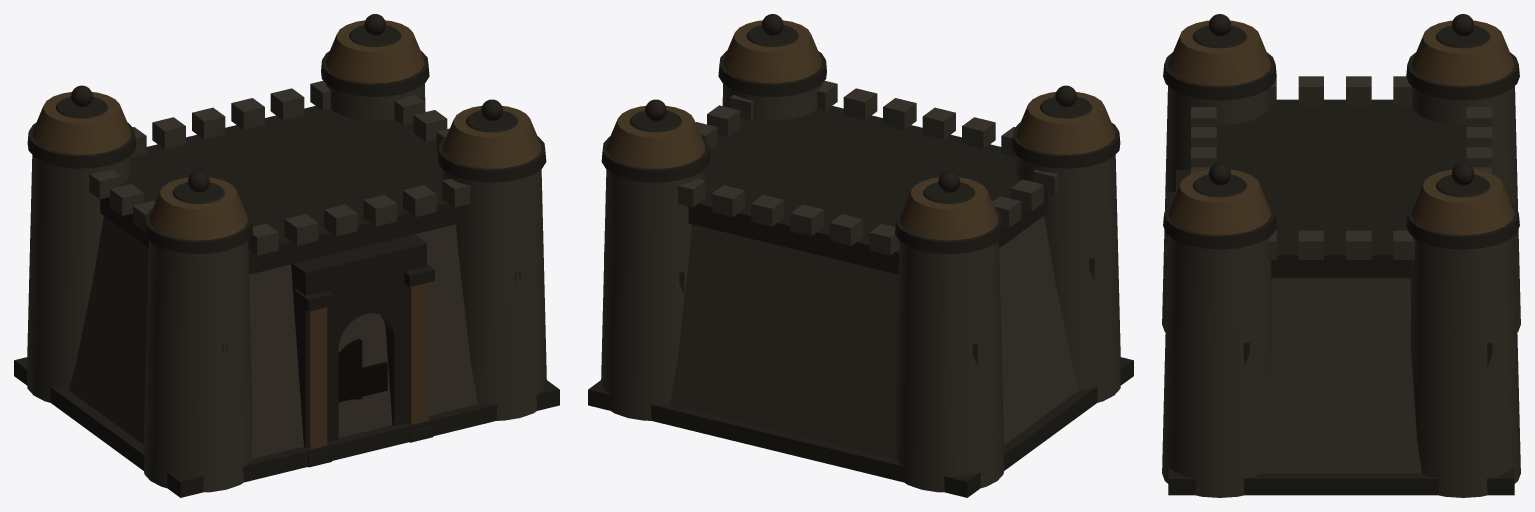
The model's file is vijayanagara-barracks.obj.
3 views of the same model, side by side, from view 1: azimuth 30°, elevation 25°; view 2: azimuth 150°, elevation 25°; view 3: azimuth 270°, elevation 25° (orthographic). The views are drawn at different scales.
Parts seen in each view (by area): view 1: keep_walls_battered, parapet_wall, watchtower_front_left_shaft, watchtower_front_right_shaft, watchtower_rear_left_shaft, gateway_facade, plinth_base, watchtower_front_right_cap_step2, watchtower_rear_left_cap_step2, watchtower_front_left_cap_step2, watchtower_rear_right_cap_step2, guardian_pilaster_right_shaft (+27 smaller); view 2: keep_walls_battered, parapet_wall, watchtower_rear_left_shaft, watchtower_rear_right_shaft, watchtower_front_left_shaft, plinth_base, watchtower_front_left_cap_step2, watchtower_rear_right_cap_step2, watchtower_rear_left_cap_step2, watchtower_front_right_cap_step2, watchtower_front_right_shaft, watchtower_rear_right_cap_step1 (+20 smaller); view 3: parapet_wall, keep_walls_battered, watchtower_rear_right_shaft, watchtower_front_right_shaft, plinth_base, watchtower_rear_left_shaft, watchtower_front_right_cap_step2, watchtower_rear_right_cap_step2, watchtower_front_left_cap_step2, watchtower_rear_left_cap_step2, watchtower_front_left_shaft, watchtower_front_right_cap_step1 (+23 smaller).
Part boxes in pixels (x1=…): keep_walls_battered: x1=69, y1=216, x2=477, y2=459; parapet_wall: x1=100, y1=106, x2=459, y2=274; watchtower_front_left_shaft: x1=144, y1=240, x2=252, y2=492; watchtower_front_right_shaft: x1=442, y1=169, x2=546, y2=420; watchtower_rear_left_shaft: x1=27, y1=155, x2=131, y2=402; gateway_facade: x1=291, y1=234, x2=426, y2=447; plinth_base: x1=14, y1=357, x2=559, y2=497; watchtower_front_right_cap_step2: x1=442, y1=106, x2=541, y2=168; watchtower_rear_left_cap_step2: x1=32, y1=92, x2=131, y2=154; watchtower_front_left_cap_step2: x1=149, y1=177, x2=247, y2=240; watchtower_rear_right_cap_step2: x1=326, y1=20, x2=424, y2=83; guardian_pilaster_right_shaft: x1=408, y1=282, x2=428, y2=424; keep_walls_battered: x1=670, y1=216, x2=1078, y2=459; parapet_wall: x1=688, y1=106, x2=1047, y2=274; watchtower_rear_left_shaft: x1=895, y1=240, x2=1003, y2=492; watchtower_rear_right_shaft: x1=601, y1=169, x2=705, y2=420; watchtower_front_left_shaft: x1=1016, y1=155, x2=1120, y2=402; plinth_base: x1=588, y1=357, x2=1133, y2=497; watchtower_front_left_cap_step2: x1=1016, y1=92, x2=1115, y2=154; watchtower_rear_right_cap_step2: x1=606, y1=106, x2=705, y2=168; watchtower_rear_left_cap_step2: x1=900, y1=177, x2=998, y2=240; watchtower_front_right_cap_step2: x1=723, y1=20, x2=821, y2=83; watchtower_front_right_shaft: x1=722, y1=84, x2=821, y2=120; watchtower_rear_right_cap_step1: x1=601, y1=136, x2=710, y2=182; parapet_wall: x1=1216, y1=99, x2=1466, y2=278; keep_walls_battered: x1=1261, y1=278, x2=1421, y2=473; watchtower_rear_right_shaft: x1=1410, y1=235, x2=1520, y2=497; watchtower_front_right_shaft: x1=1162, y1=235, x2=1272, y2=497; plinth_base: x1=1168, y1=467, x2=1514, y2=495; watchtower_rear_left_shaft: x1=1411, y1=86, x2=1520, y2=332; watchtower_front_right_cap_step2: x1=1168, y1=169, x2=1271, y2=235; watchtower_rear_right_cap_step2: x1=1411, y1=169, x2=1514, y2=235; watchtower_front_left_cap_step2: x1=1168, y1=20, x2=1271, y2=86; watchtower_rear_left_cap_step2: x1=1411, y1=20, x2=1514, y2=86; watchtower_front_left_shaft: x1=1162, y1=86, x2=1271, y2=332; watchtower_front_right_cap_step1: x1=1163, y1=201, x2=1276, y2=249.
Bounding box in the file's own units: 7.7 × 5.62 × 5.9.
